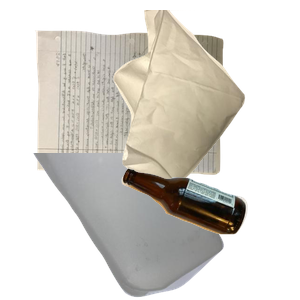glass: (119, 166, 300, 300)
paper: (32, 28, 249, 196)
plastic: (29, 153, 245, 300)
trash: (111, 10, 300, 190)
